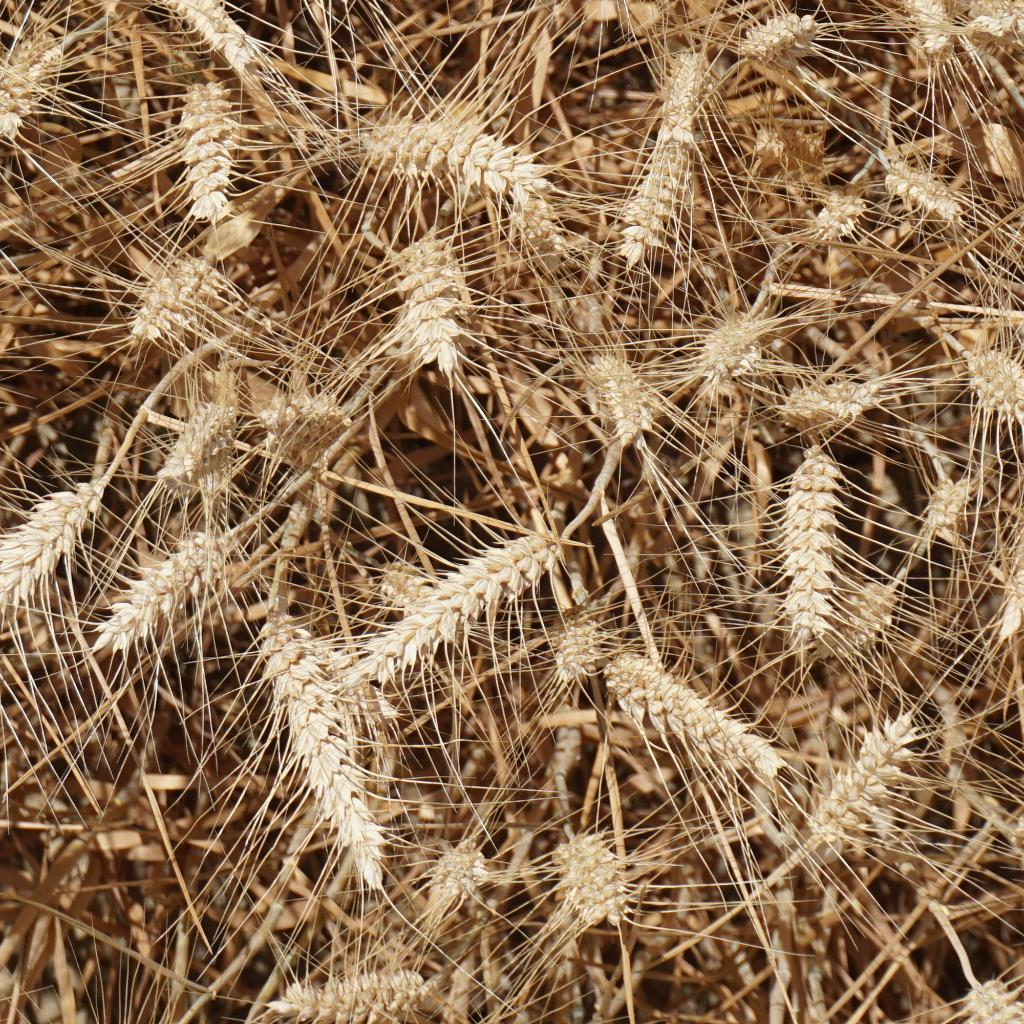0-0: (262, 618, 402, 902), (348, 97, 571, 257), (376, 523, 570, 693), (600, 644, 803, 793), (91, 514, 237, 649), (805, 707, 917, 874), (775, 444, 852, 655), (0, 476, 98, 640), (609, 118, 708, 271), (159, 71, 253, 216), (256, 962, 469, 1024), (389, 220, 470, 368), (555, 833, 661, 931), (121, 238, 218, 344), (161, 0, 281, 82), (160, 384, 249, 494), (644, 37, 720, 155), (880, 149, 974, 240), (257, 375, 356, 458), (588, 340, 659, 454), (0, 30, 69, 147), (698, 297, 781, 393), (778, 359, 890, 428), (989, 451, 1024, 651), (545, 610, 616, 707), (914, 451, 977, 554), (429, 835, 498, 923), (830, 581, 900, 666), (966, 340, 1024, 429), (739, 10, 824, 70), (815, 183, 878, 258), (889, 1, 961, 63), (749, 117, 827, 174), (962, 0, 1024, 54)
